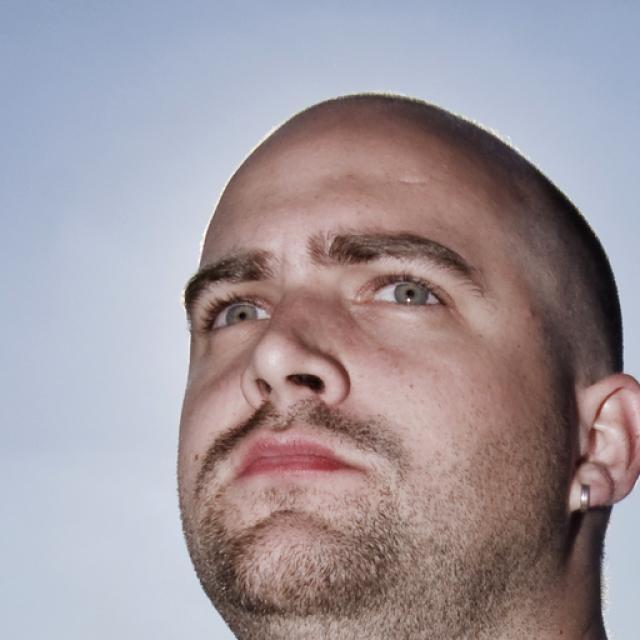neutral: (178, 96, 562, 615)
